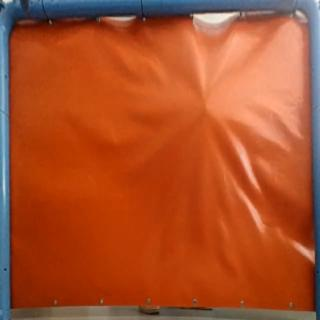Hit-hRxx: (198, 101, 219, 121)
